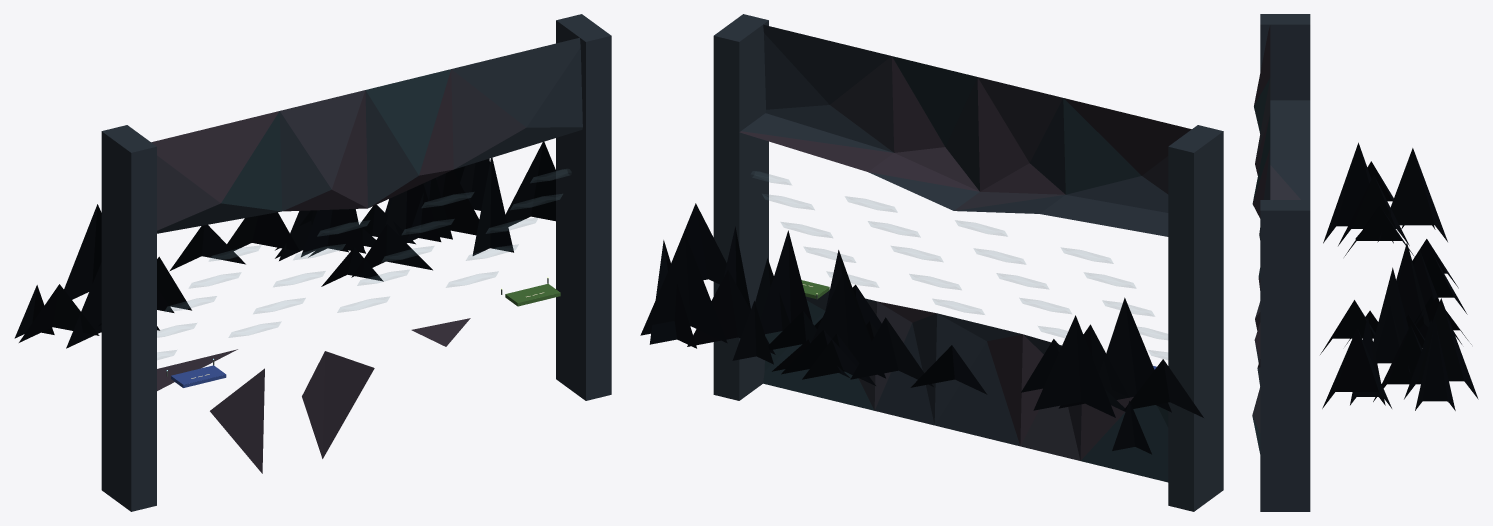
Rendered from 10-dark.glb.
3 renders of one model, left to right at view 1: azimuth 30°, elevation 25°; view 2: azimuth 150°, elevation 25°; view 3: azimuth 270°, elevation 25°, orthographic. The views are drawn at different scales.
Visible parts, largest first — view 1: terrain_roof, terrain_wall_-1, terrain_wall_1, terrain_floor, background_spire_13, background_spire_22, background_spire_06, background_spire_10, background_spire_01, background_spire_19, background_spire_14, background_spire_07 (+11 smaller); view 2: terrain_roof, terrain_floor, terrain_wall_-1, terrain_wall_1, background_spire_10, background_spire_24, background_spire_20, background_spire_01, background_spire_09, background_spire_19, background_spire_07, background_spire_13 (+12 smaller); view 3: terrain_wall_1, terrain_roof, terrain_wall_-1, background_spire_10, background_spire_24, background_spire_13, background_spire_20, background_spire_23, background_spire_06, background_spire_07, background_spire_15, background_spire_01 (+10 smaller).
Part boxes in pixels (x1,y1,x2,y2): terrain_roof: (151,37,582,233); terrain_wall_-1: (101,125,156,511); terrain_wall_1: (556,14,611,400); terrain_floor: (157,318,470,473); background_spire_13: (505,142,555,226); background_spire_22: (472,158,513,255); background_spire_06: (301,209,364,257); background_spire_10: (64,204,101,299); background_spire_01: (385,183,441,241); background_spire_19: (227,212,299,251); background_spire_14: (19,284,99,342); background_spire_07: (406,170,479,242); terrain_roof: (739,24,1191,236); terrain_floor: (763,290,1168,482); terrain_wall_-1: (1168,125,1223,511); terrain_wall_1: (713,14,768,400); background_spire_10: (1033,315,1115,417); background_spire_24: (640,233,727,343); background_spire_20: (1099,297,1171,412); background_spire_01: (760,230,812,334); background_spire_09: (812,273,885,378); background_spire_19: (850,317,933,386); background_spire_07: (687,270,775,354); background_spire_13: (671,203,726,284); terrain_wall_1: (1260,200,1310,511); terrain_roof: (1252,25,1310,239); terrain_wall_-1: (1260,14,1310,100); background_spire_10: (1377,148,1447,242); background_spire_24: (1404,298,1478,399); background_spire_13: (1322,328,1391,408); background_spire_20: (1323,142,1393,243); background_spire_23: (1415,321,1455,410); background_spire_06: (1396,243,1429,327); background_spire_07: (1373,325,1448,402); background_spire_15: (1338,175,1409,245); background_spire_01: (1373,267,1408,354).
Size of what is drawn, in the model's own units: 62.84 by 40 by 27.25.
